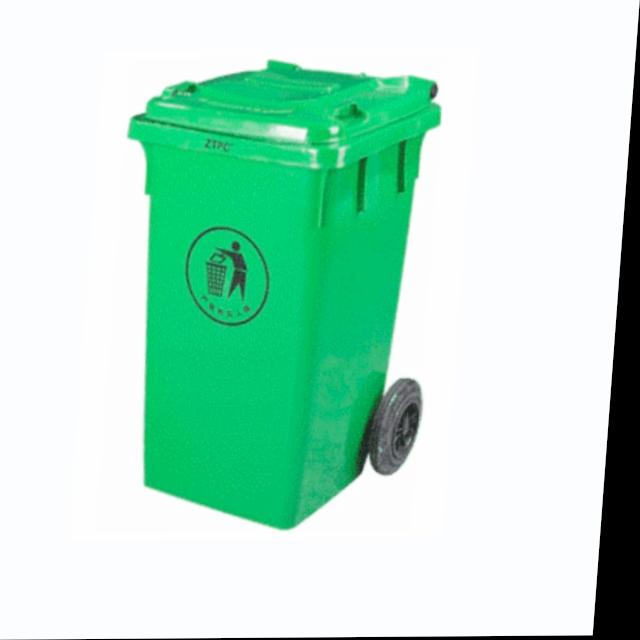garbage_bin: (104, 58, 446, 533)
